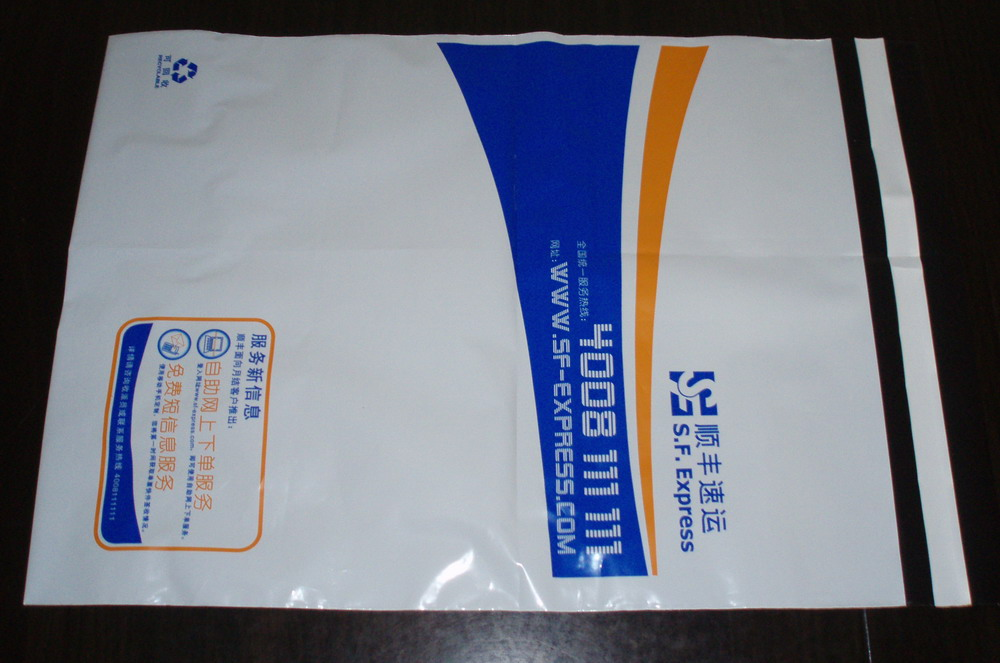Parcel: (25, 32, 970, 611)
